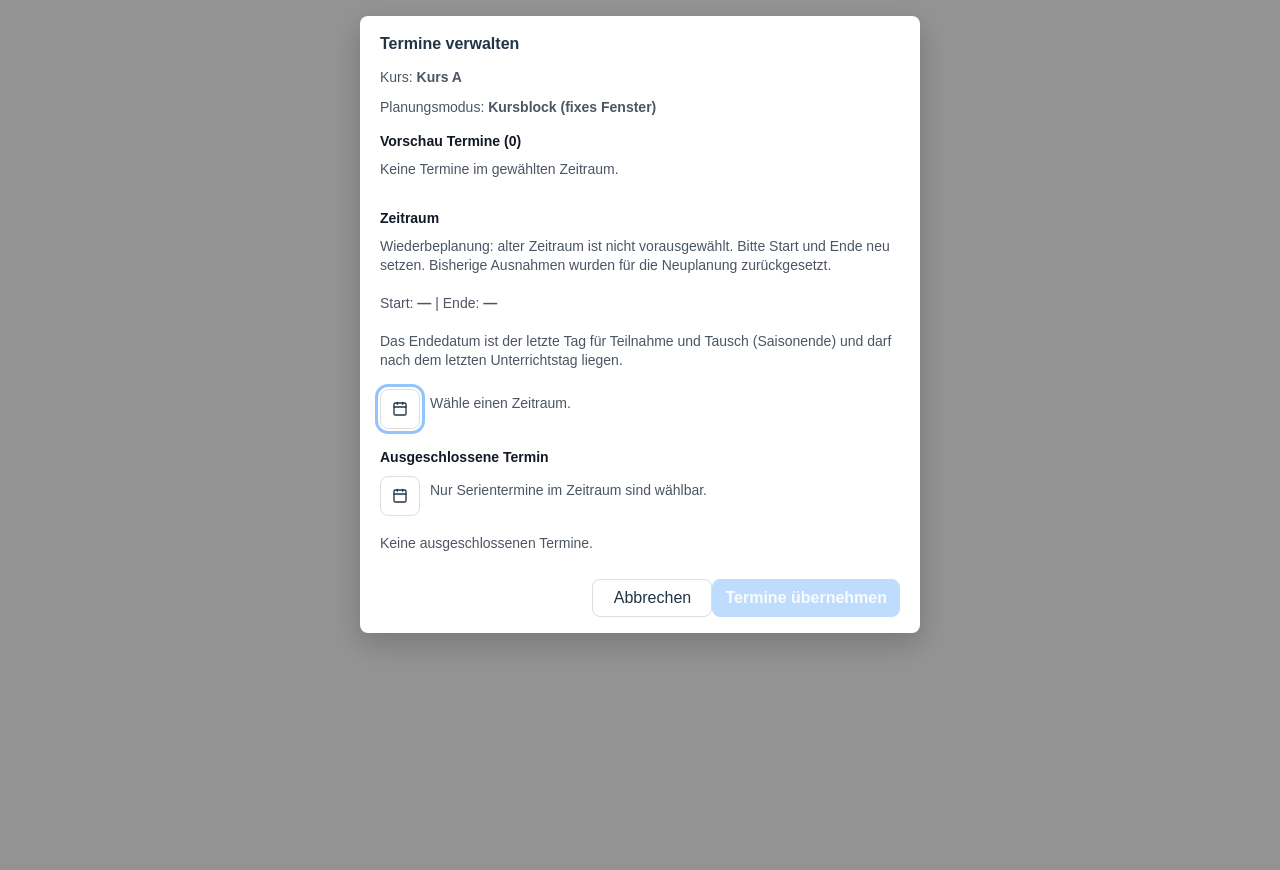
CourseDatesDialog › startet Wiederbeplanung ohne alten Zeitraum und ohne Ausnahmen (#331)
Expected: the text "Wiederbeplanung" is shown, [380,238,890,273]
Expected: the message shows "ausnahmen wurden für die neuplanung zurückgesetzt", [425,257,831,273]
Click the button named "kalender für zeitraum öffnen" at (400, 409), box [380,389,420,429]
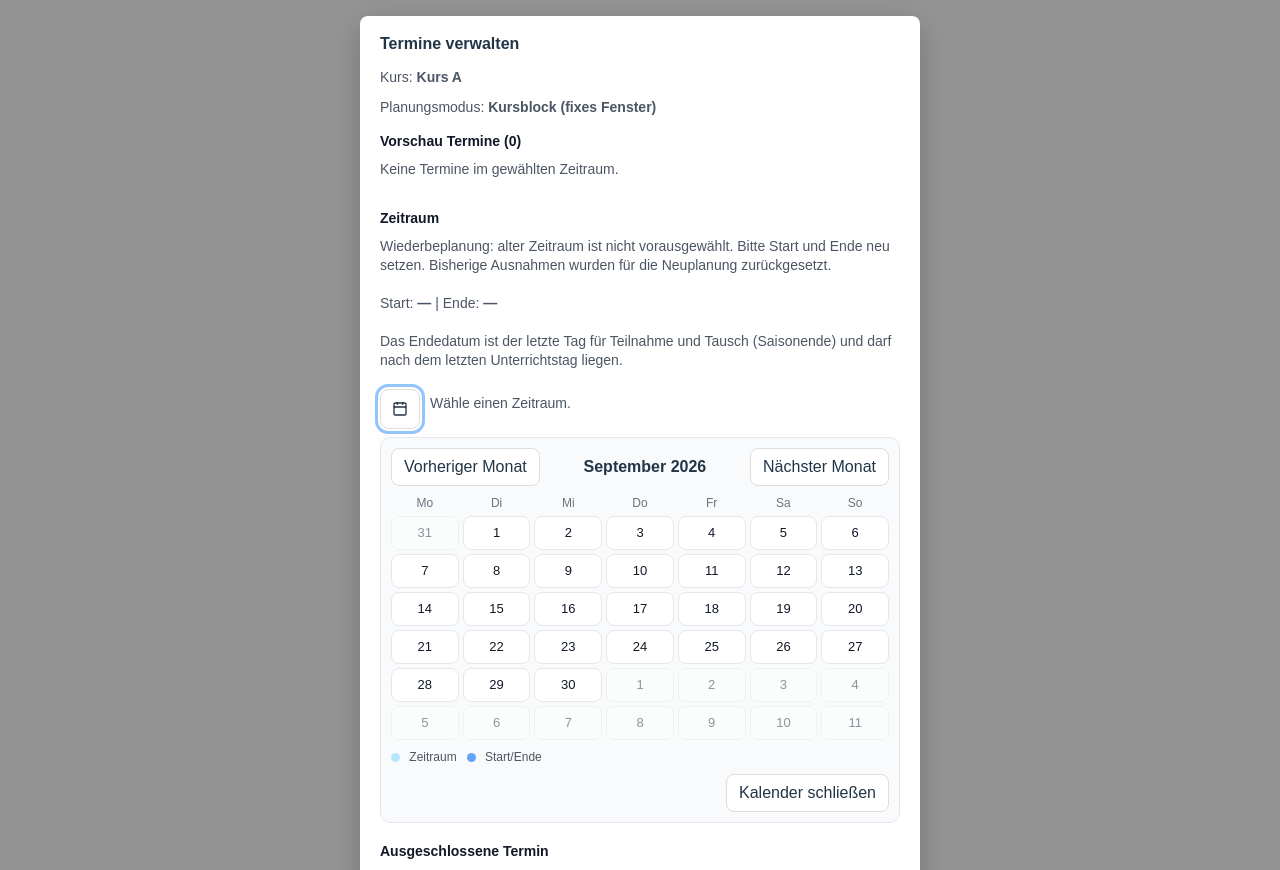
Expected: the text "September 2026" is shown, [584,455,706,479]
